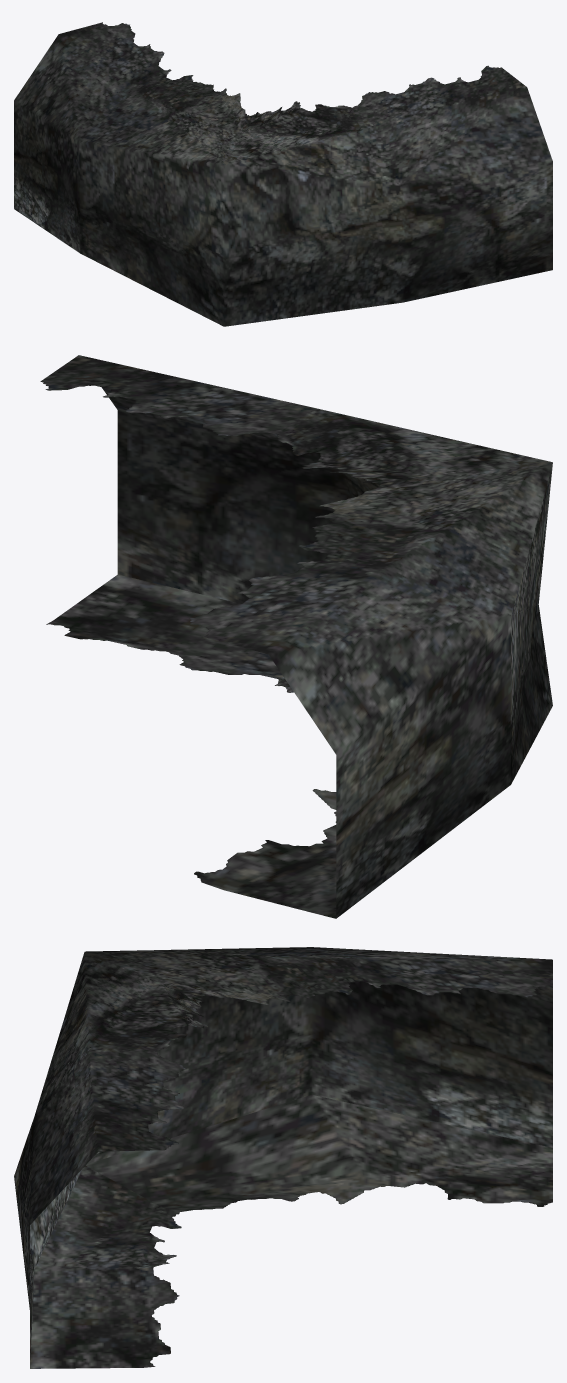
Rendered from rock_Lconvex.dae.
3 views of the same model, one above another, from view 1: azimuth 30°, elevation 25°; view 2: azimuth 150°, elevation 25°; view 3: azimuth 270°, elevation 25° (orthographic). The views are drawn at different scales.
Visible parts, largest first — view 1: polySurface5; view 2: polySurface5; view 3: polySurface5.
Boxes of the visible parts, left/top/right/bottom form: polySurface5: left=14, top=22, right=552, bottom=326; polySurface5: left=40, top=355, right=552, bottom=918; polySurface5: left=14, top=947, right=552, bottom=1368.
Bounding box in the file's own units: 1.23 × 0.5336 × 1.19.
